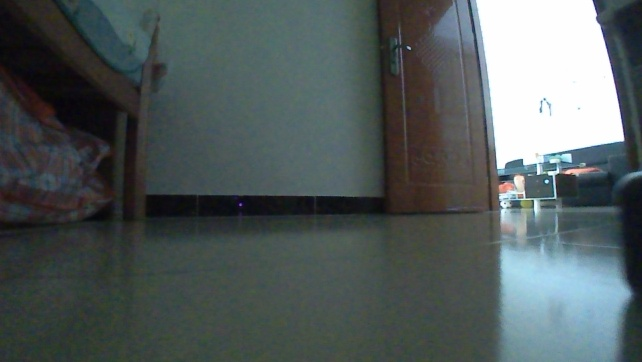bed1: (0, 0, 162, 223)
door_anno: (370, 0, 502, 214)
sofa: (535, 140, 634, 209)
tea_table1: (494, 157, 584, 207)
